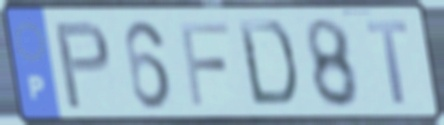6: (122, 16, 174, 112)
8: (304, 15, 361, 111)
D: (234, 17, 299, 110)
F: (176, 18, 232, 109)
P: (51, 18, 113, 112)
T: (362, 18, 411, 108)
